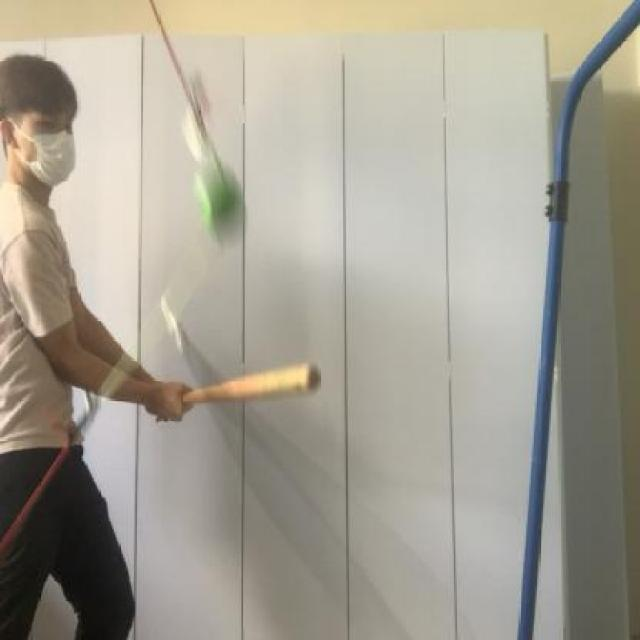baseball: (182, 143, 260, 260)
